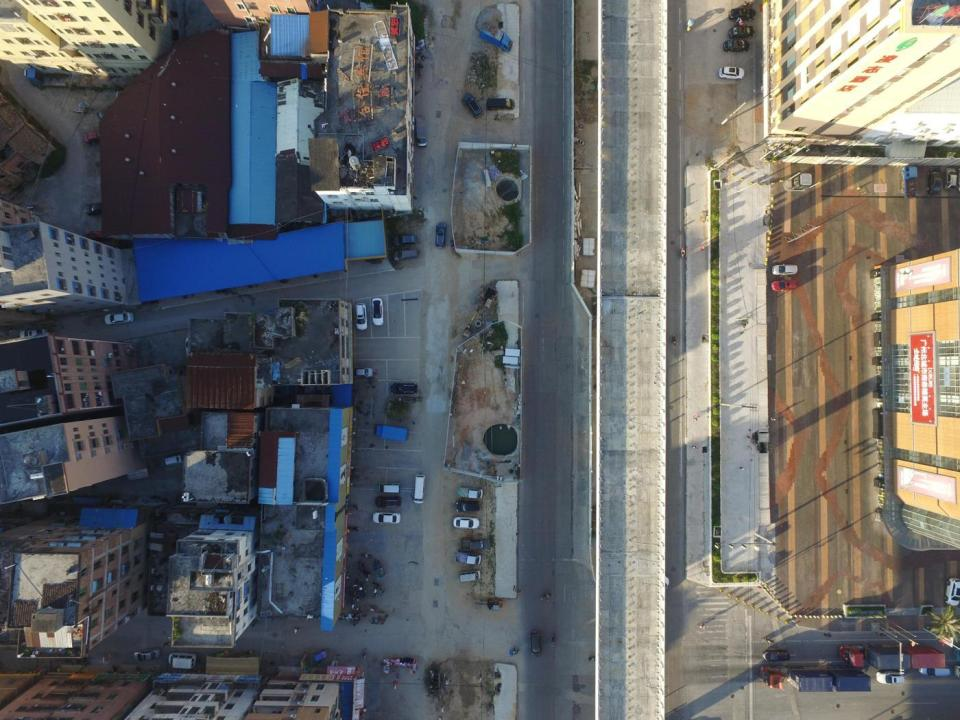car: (102, 310, 134, 326), (942, 578, 960, 606), (463, 93, 483, 118), (388, 380, 420, 395), (875, 670, 905, 686), (352, 302, 369, 330), (926, 167, 943, 195), (370, 296, 386, 325), (762, 648, 790, 664), (717, 64, 745, 80), (372, 510, 401, 525), (133, 646, 160, 662), (453, 498, 480, 513), (771, 261, 798, 276), (770, 278, 798, 292), (453, 515, 480, 529), (727, 7, 756, 20), (723, 39, 748, 54), (83, 201, 109, 215), (433, 222, 447, 248), (392, 248, 419, 261), (529, 630, 541, 659), (374, 496, 402, 508), (18, 328, 48, 339), (945, 165, 957, 190), (729, 26, 754, 38), (81, 130, 104, 143), (392, 234, 418, 245)
truck: (757, 664, 872, 693), (837, 644, 947, 673), (479, 22, 514, 53), (373, 422, 410, 440), (901, 165, 919, 200), (414, 115, 429, 148), (456, 485, 484, 500), (458, 538, 490, 551), (455, 550, 481, 564)
van: (167, 650, 197, 669), (411, 472, 425, 504), (918, 664, 950, 677), (486, 98, 516, 111), (344, 368, 373, 379), (379, 481, 401, 494), (458, 570, 481, 581), (163, 454, 183, 466)
